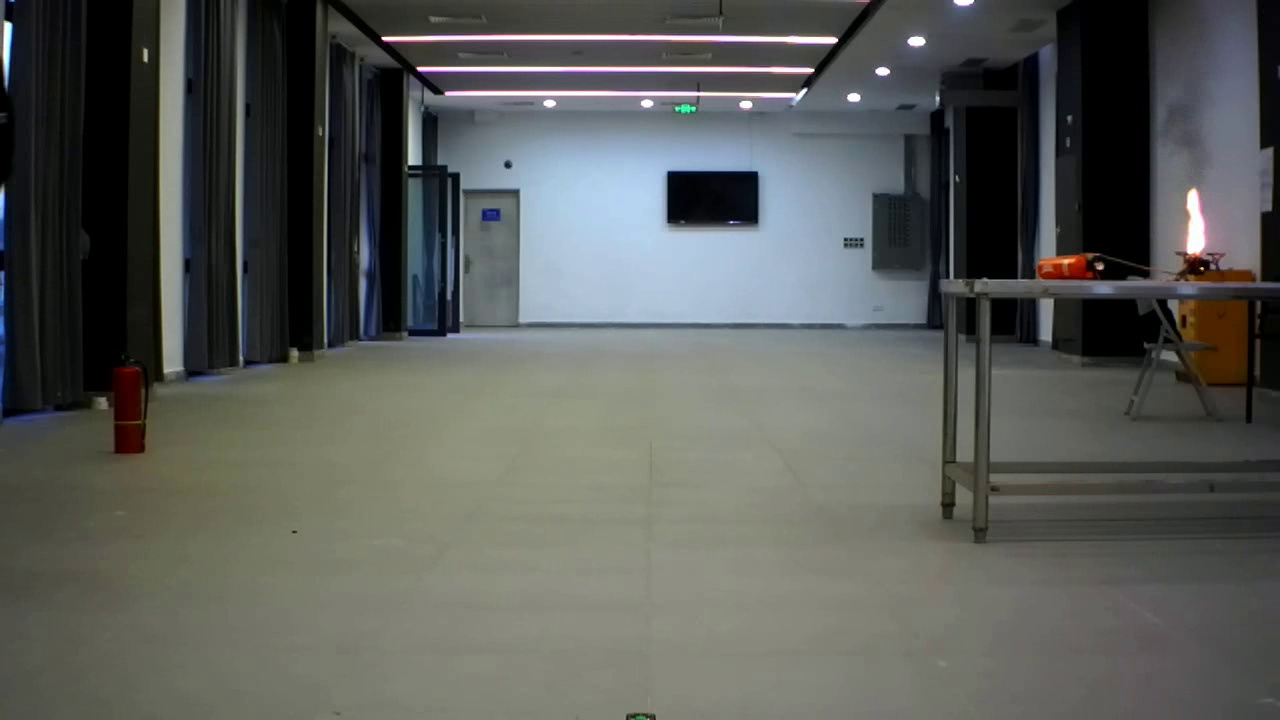Fire: (1176, 183, 1216, 269)
